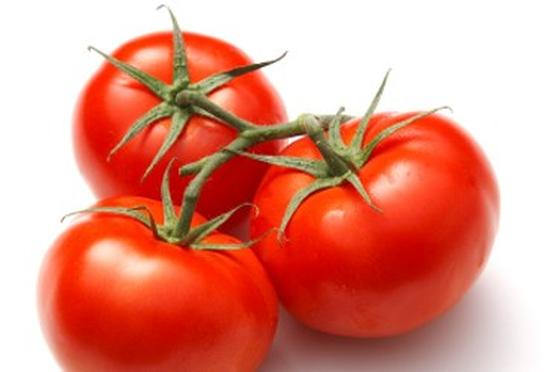tomato: (253, 115, 500, 340), (66, 31, 290, 230), (42, 195, 277, 372)
